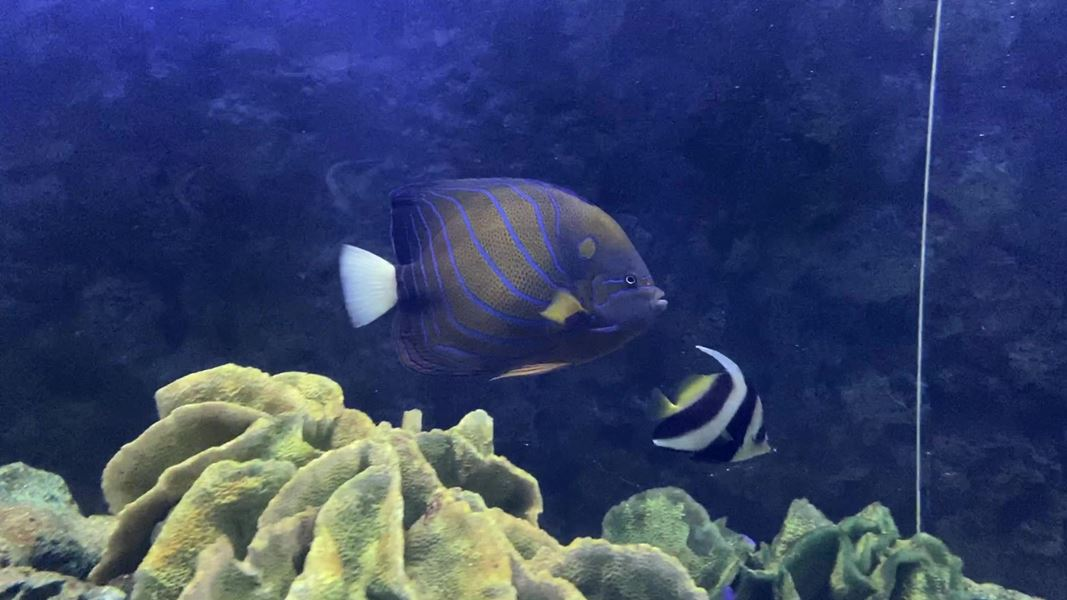Blue ring angelfish: (328, 160, 692, 403)
